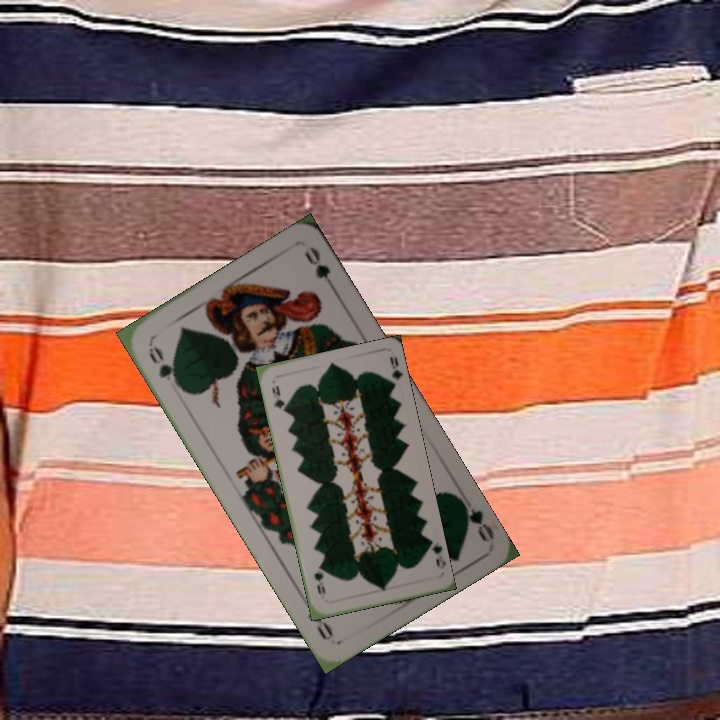G9: (423, 536, 447, 572), (268, 382, 289, 416)
GO: (453, 493, 497, 545), (144, 340, 184, 391)
